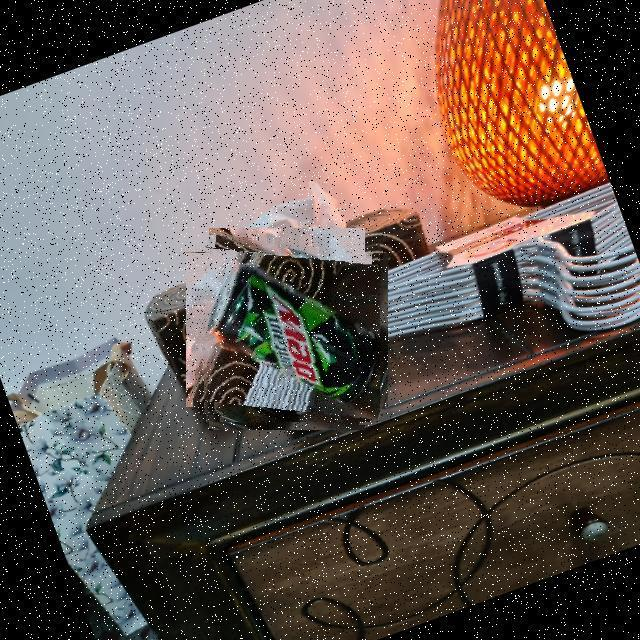recyclable: (195, 237, 380, 422)
